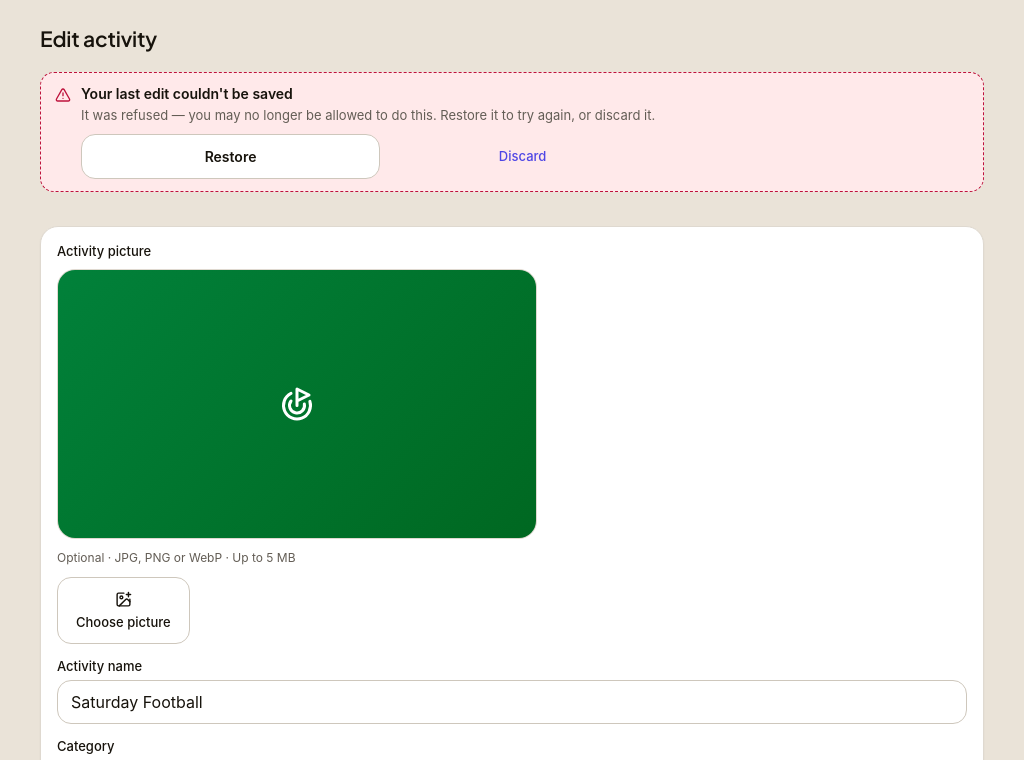
it: editing an activity › a refused edit of this activity is offered; another activity’s is not
Step 1. Click the button "Restore" → click(231, 156), box [81,134,380,179]
(page scrolled)
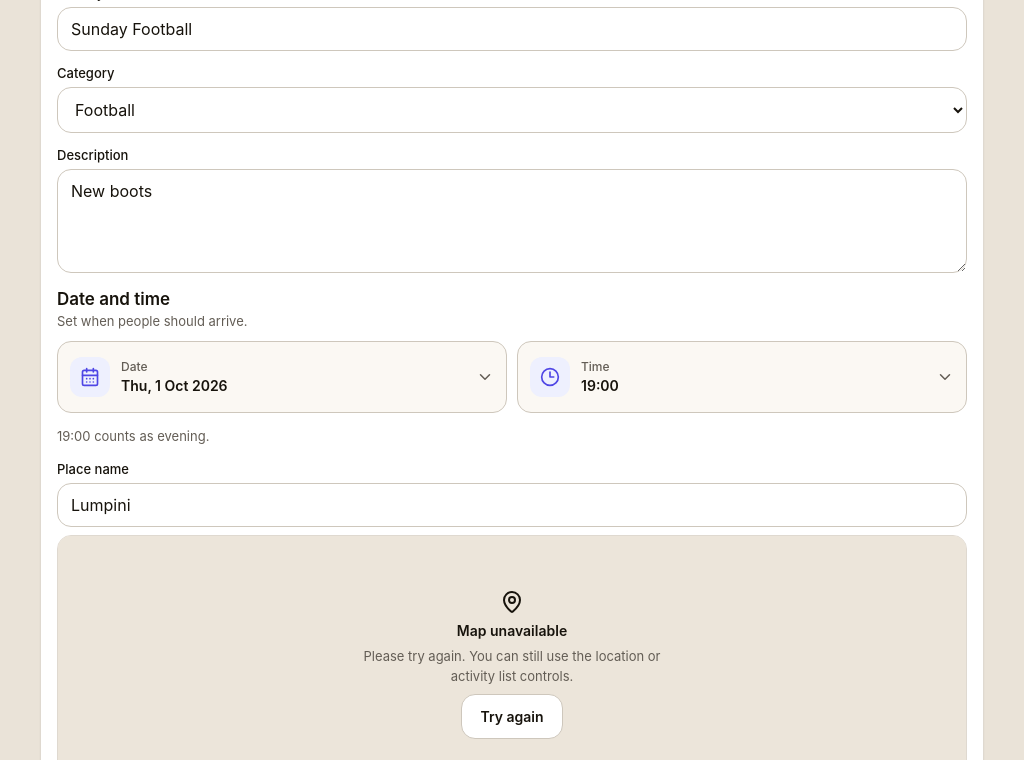
Expected: the button "Date Thu, 1 Oct 2026" is shown, [57,341,507,413]
Now the field showing "Sunday Football" is shown, box [57,7,967,51]
Now the text box showing "New boots" is shown, box [57,169,967,273]
